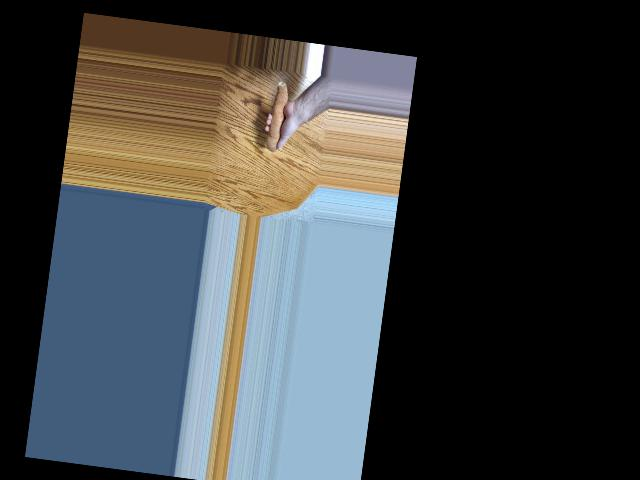sweet_potato: (261, 79, 294, 158)
